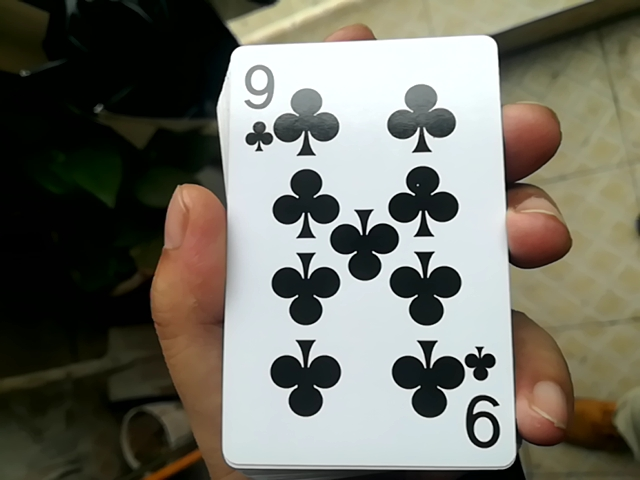mh 9: (211, 25, 505, 467)
